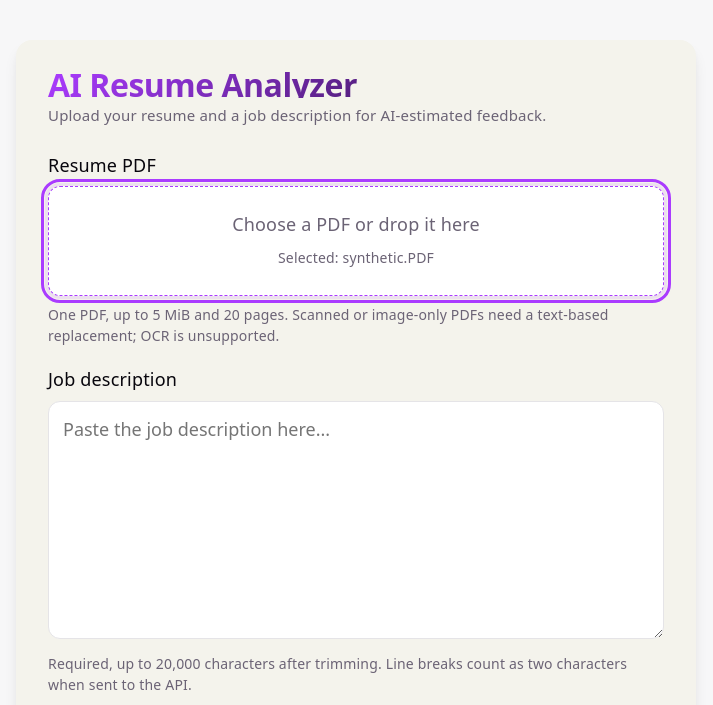
honors Retry-After across session clearing and enables only a manual retry
Earlier steps of the test are not shown.
Later steps or results of the test are not shown.
Type "  Python developer  " into the text box labelled "Job description" at (356, 520), box [48, 401, 664, 639]
(page scrolled)
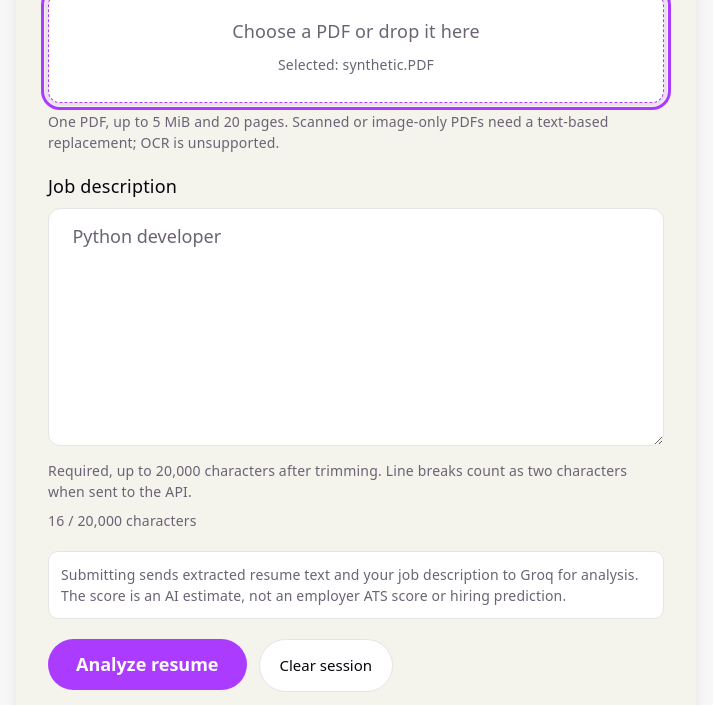
Submit the form named "Analyze resume"
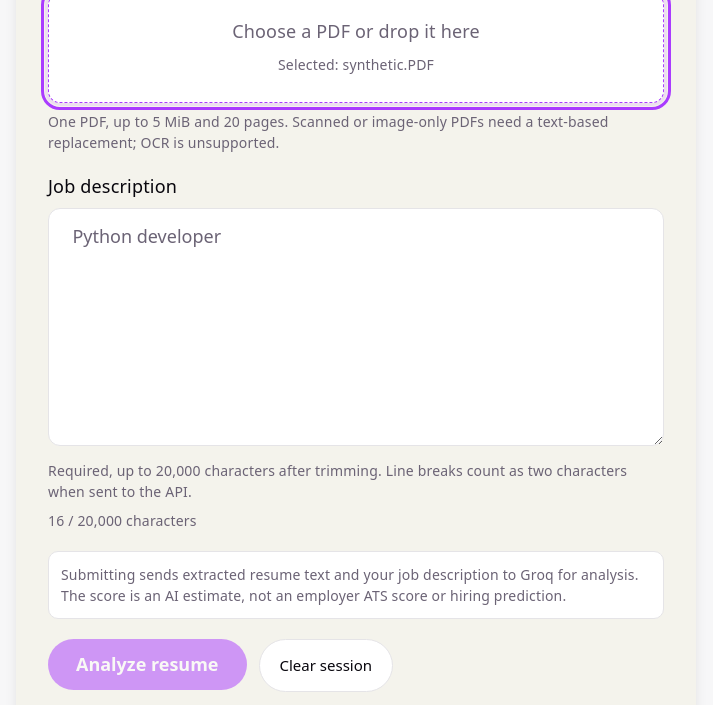
Check: the button "Analyze resume" is disabled, box [48, 639, 246, 690]
Click the button "Clear session" at (326, 665), box [258, 639, 393, 692]
Wait 10000 ms
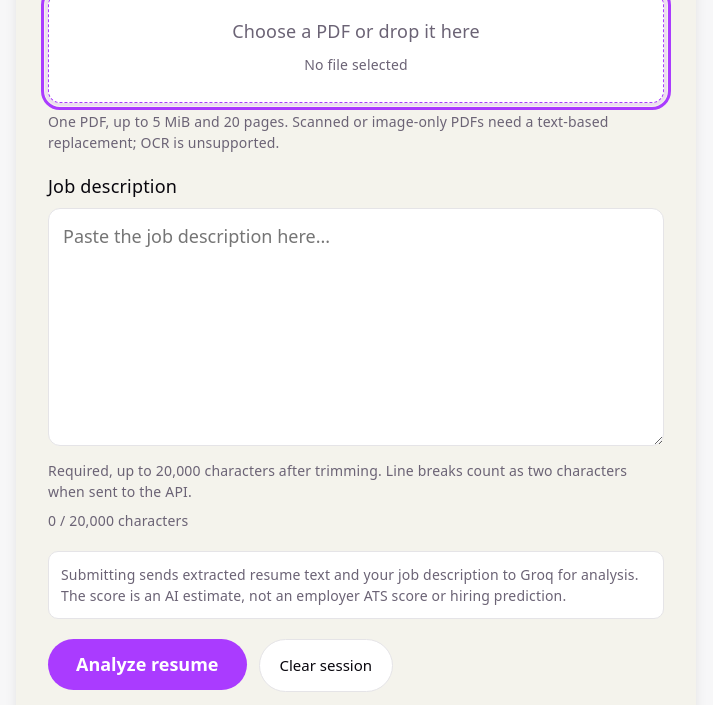
Check: the button "Analyze resume" is enabled, box [48, 639, 246, 690]
